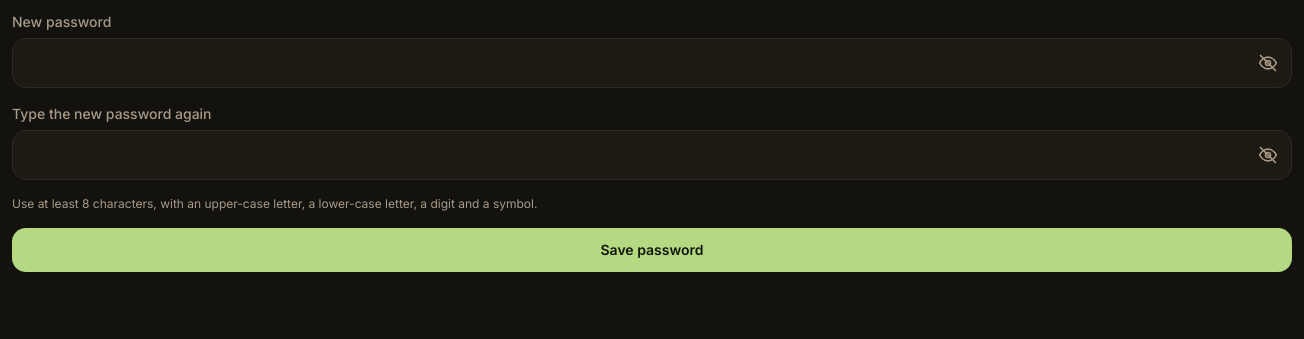
Test: changing the password while signed in (issue #65) › does not talk about a reset link when the session has gone
Type "Abcdef1!" into the password field labelled "New password" at x=652, y=63, box [12, 38, 1292, 88]
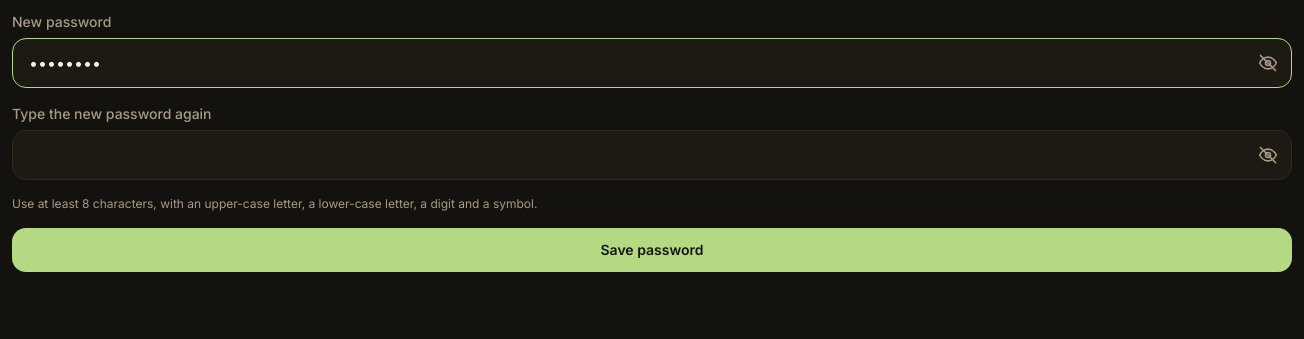
Type "Abcdef1!" into the password field labelled "Type the new password again" at x=652, y=155, box [12, 130, 1292, 180]
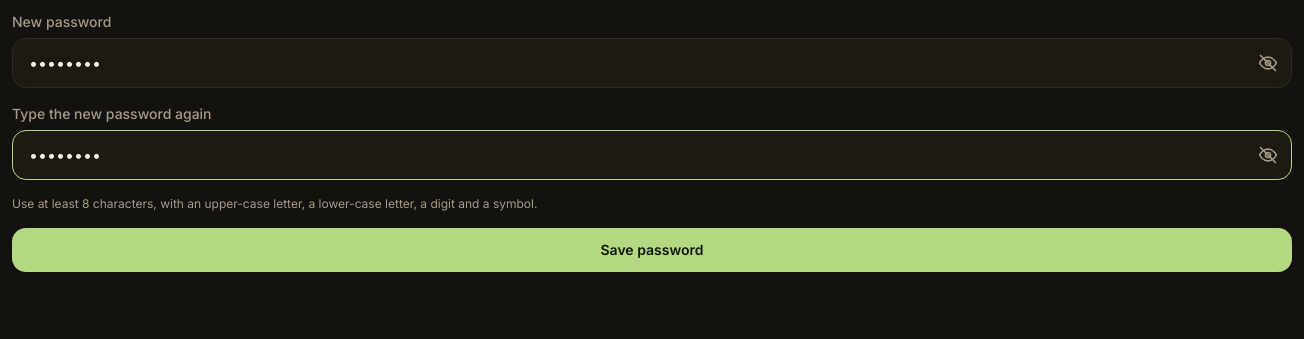
Click the button "Save password" at x=652, y=250, box [12, 228, 1292, 272]
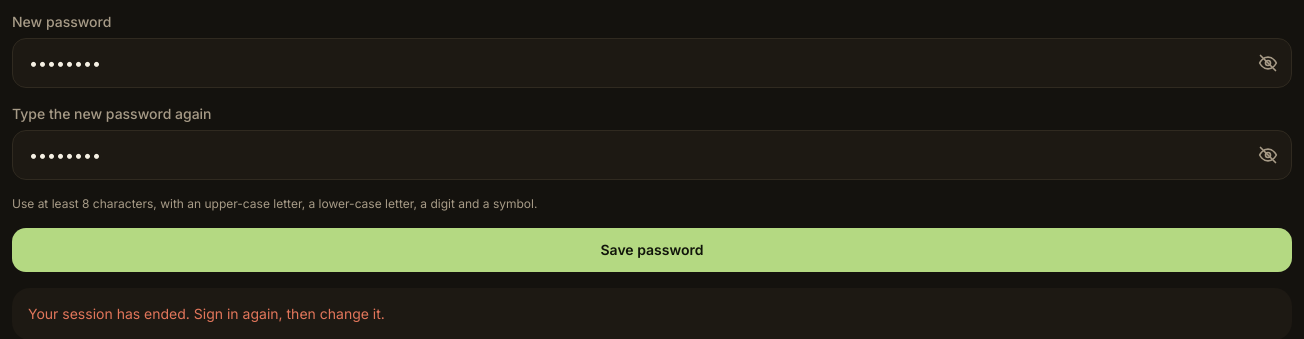
Check: the message shows "Sign in again", box [28, 305, 385, 322]
